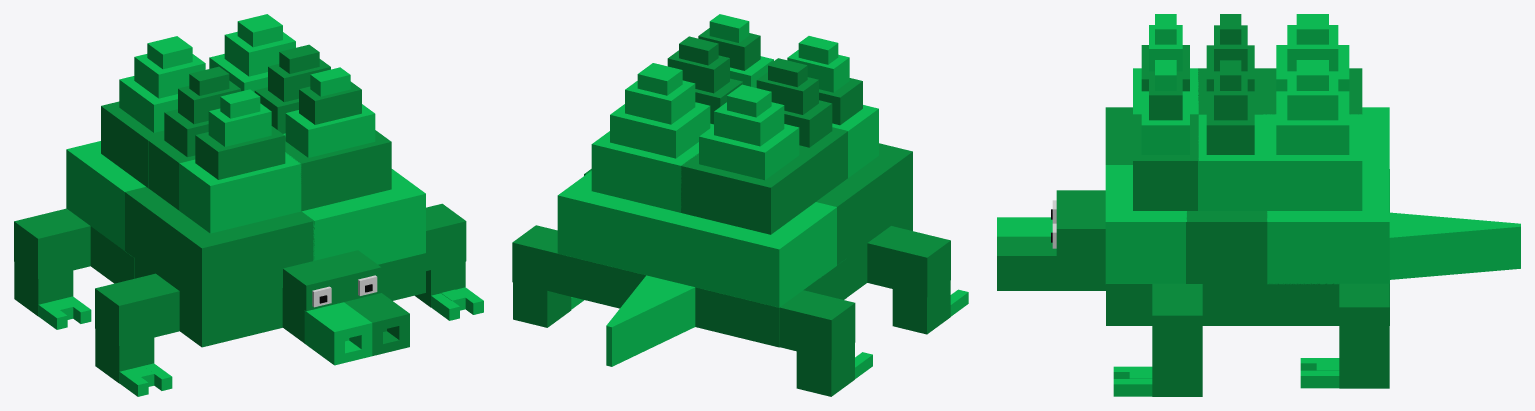
The model's file is torto.fbx.
3 renders of one model, left to right at view 1: azimuth 30°, elevation 25°; view 2: azimuth 150°, elevation 25°; view 3: azimuth 270°, elevation 25°, orthographic. The views are drawn at different scales.
Parts seen in each view (by area): view 1: pCube304 (×2), pCube413 (×2), pCube306 (×2), pCube305 (×2), pCube311, pCube433, pCube302, pCube322, pCube294, pCube415, pCube419, pCube293 (+28 smaller); view 2: pCube306 (×2), pCube410 (×2), pCube332, pCube304 (×2), pCube305 (×2), pCube311, pCube303, pCube322, pCube417, pCube418, pCube411, pCube327 (+20 smaller); view 3: pCube410 (×2), pCube413 (×2), pCube414 (×2), pCube332, pCube433, pCube412, pCube411, pCube307, pCube327, pCube293, pCube418, pCube306 (×2) (+24 smaller).
Part boxes in pixels (x1,y1,x2,y2): pCube304 (×2): (163,152,314,307); pCube413 (×2): (285,130,425,264); pCube306 (×2): (66,101,164,250); pCube305 (×2): (125,136,195,278); pCube311: (95,273,179,345); pCube433: (282,250,381,343); pCube302: (134,259,282,347); pCube322: (14,208,90,278); pCube294: (304,302,372,365); pCube415: (195,126,285,179); pCube419: (285,104,375,157); pCube293: (344,293,409,355); pCube306 (×2): (668,149,836,307); pCube410 (×2): (557,127,710,280); pCube332: (606,275,695,366); pCube304 (×2): (832,105,912,237); pCube305 (×2): (799,127,874,264); pCube311: (867,226,950,297); pCube303: (678,258,846,347); pCube322: (779,290,855,359); pCube417: (699,124,799,180); pCube418: (610,102,710,158); pCube411: (557,254,667,308); pCube327: (512,225,557,293); pCube410 (×2): (1263,114,1389,284); pCube413 (×2): (1105,114,1198,283); pCube414 (×2): (1186,114,1267,284); pCube332: (1389,212,1520,279); pCube433: (1056,190,1105,290); pCube412: (1106,283,1248,325); pCube411: (1249,238,1389,325); pCube307: (1152,283,1202,357); pCube327: (1339,283,1389,349); pCube293: (997,236,1059,290); pCube418: (1276,91,1349,154); pCube306 (×2): (1263,68,1389,164).
Size of the model in its own units: 11.22 by 7.76 by 13.99.
